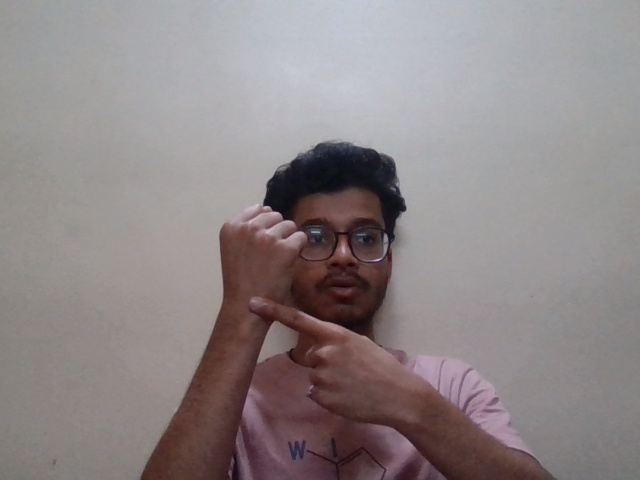time: (204, 205, 370, 407)
